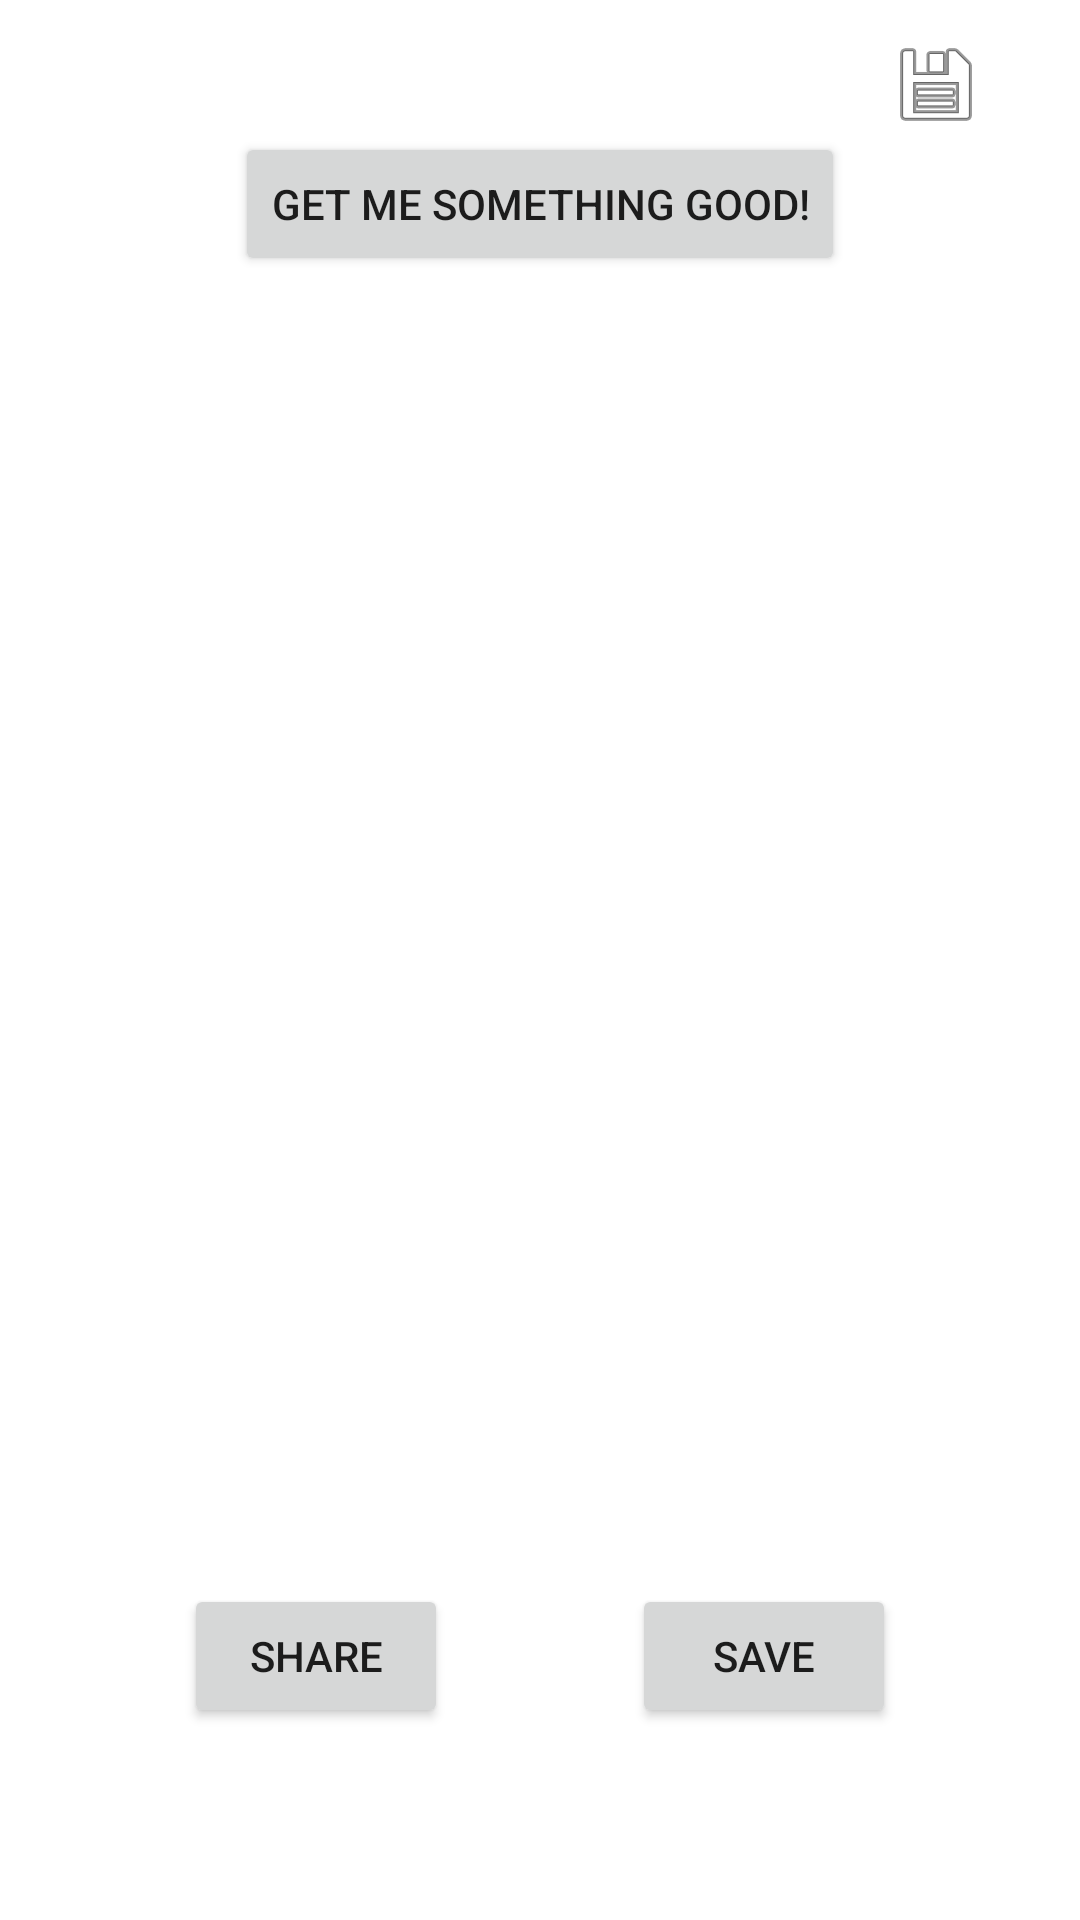

Screen size 1080 × 1920. Icon name, then its center in pixels as [x,y]:
save: [936,84]
